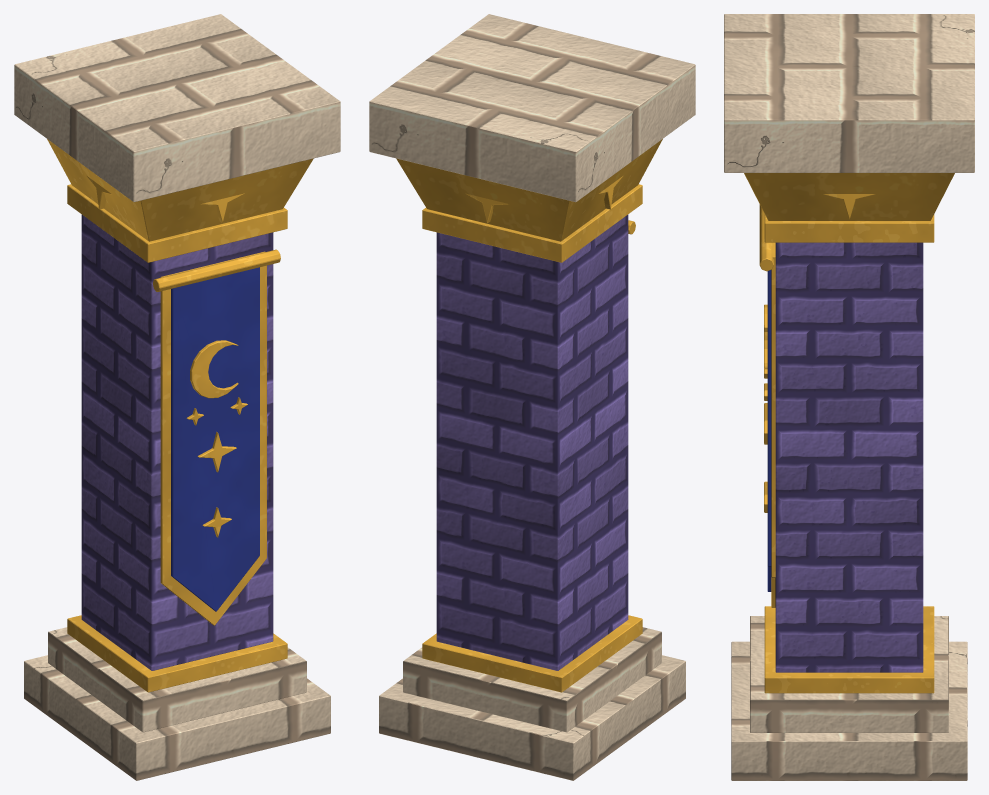
The model's file is Pilar_Estandarte.fbx.
3 views of the same model, side by side, from view 1: azimuth 30°, elevation 25°; view 2: azimuth 150°, elevation 25°; view 3: azimuth 270°, elevation 25° (orthographic). The views are drawn at different scales.
Parts seen in each view (by area): view 1: Kit_Pilar_Estandarte; view 2: Kit_Pilar_Estandarte; view 3: Kit_Pilar_Estandarte.
Part boxes in pixels (box(x1,y1,x2,y2)): Kit_Pilar_Estandarte: box(14, 14, 340, 780); Kit_Pilar_Estandarte: box(369, 14, 695, 780); Kit_Pilar_Estandarte: box(724, 14, 974, 780).
Size of the model in its own units: 1.7 by 4.97 by 1.7.
